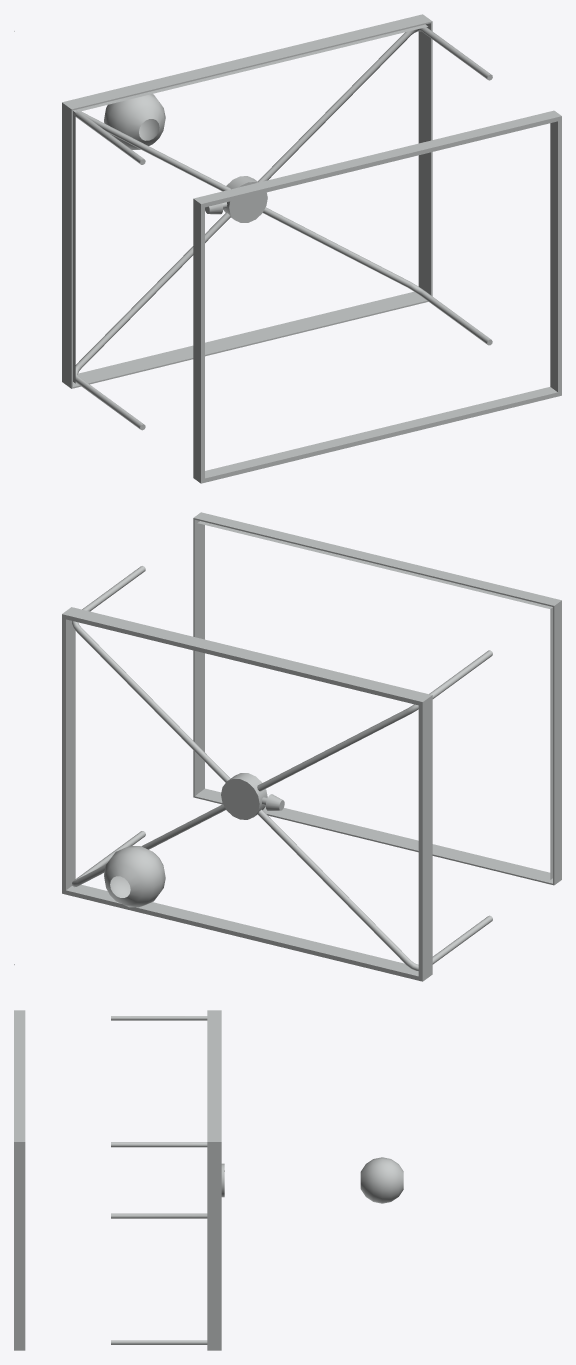
The model's file is MeshDeskLamp_7_0_GeomSubset_1.obj.
3 renders of one model, top to bottom at view 1: azimuth 30°, elevation 25°; view 2: azimuth 150°, elevation 25°; view 3: azimuth 270°, elevation 25°, orthographic. The views are drawn at different scales.
Parts seen in each view (by area): view 1: MeshDeskLamp_7_0_GeomSubset_1; view 2: MeshDeskLamp_7_0_GeomSubset_1; view 3: MeshDeskLamp_7_0_GeomSubset_1.
Boxes of the visible parts, x1,y1,x2,y2 form: MeshDeskLamp_7_0_GeomSubset_1: (14, 14, 561, 483); MeshDeskLamp_7_0_GeomSubset_1: (14, 512, 561, 981); MeshDeskLamp_7_0_GeomSubset_1: (14, 1010, 403, 1350).
Bounding box in the file's own units: 0.2558 × 0.1893 × 0.4506.
